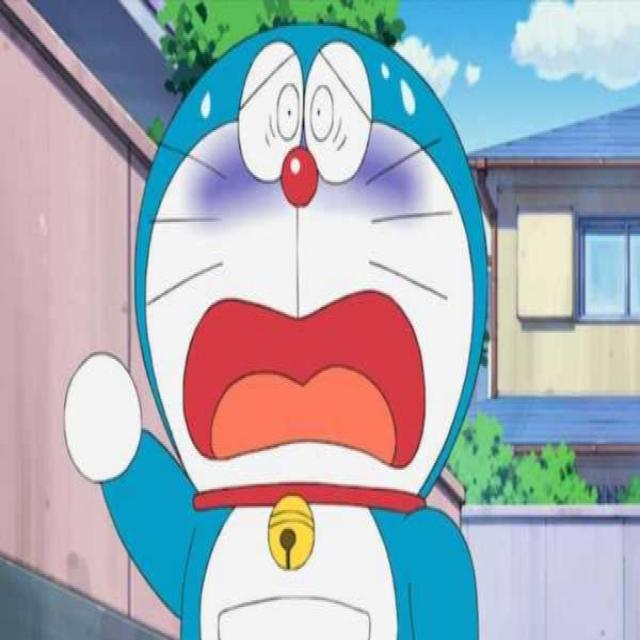doraemon: (108, 12, 522, 604)
